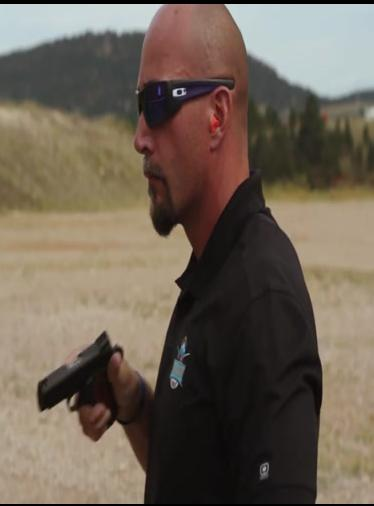pistol: (36, 328, 125, 439)
